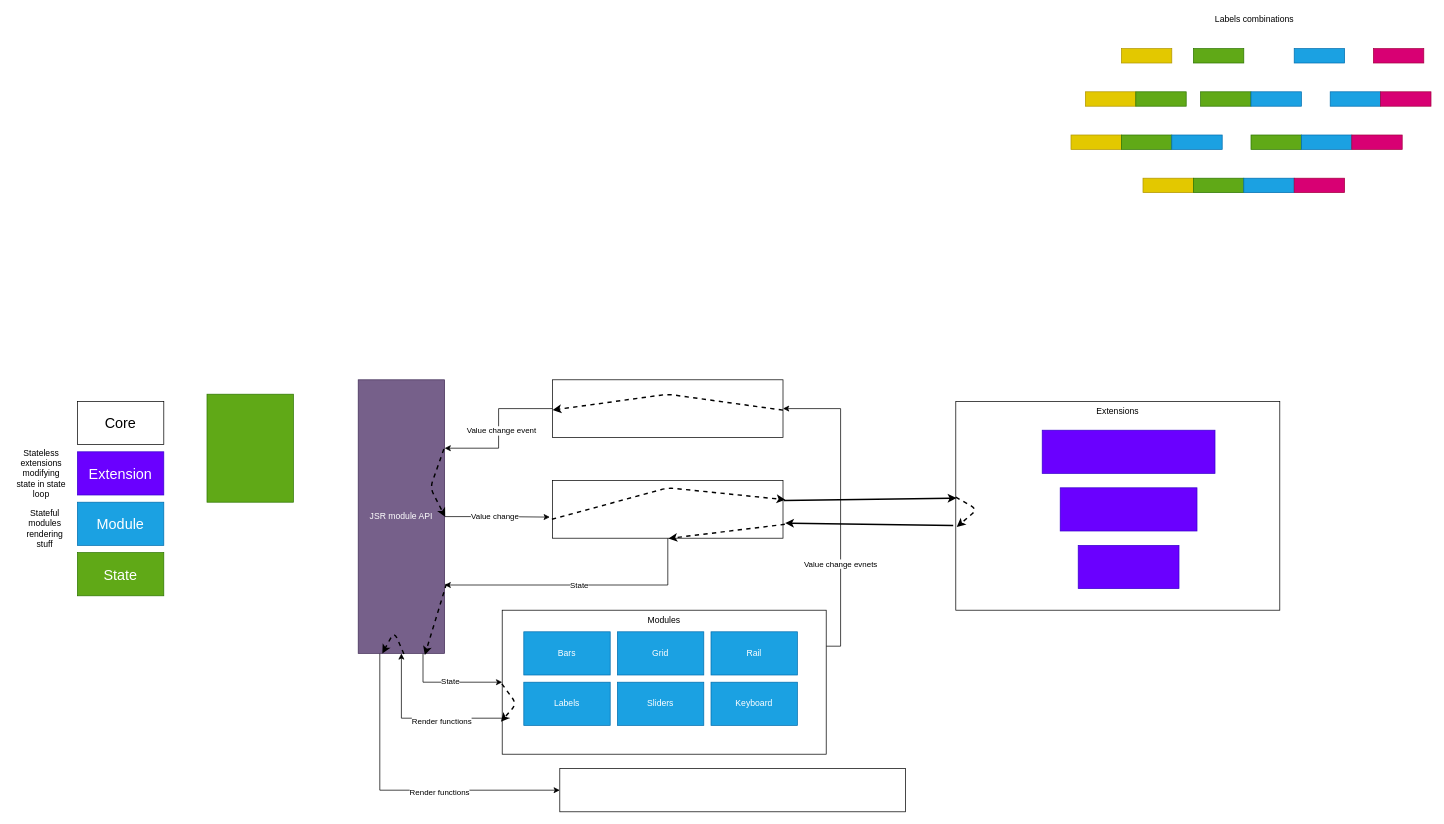
Image size: 1444x824. Some labels were removed from this diagram. The centre of each missing label's shape, as x and y in pixels:
Additional limit: [1128,567]
InputHandler: [667,408]
Neighbour value and min/max limit: [1128,451]
Renderer: [732,790]
Round to step: [1128,509]
StateProcessor: [667,509]
Value - .real() - .ratio(): [249,447]
